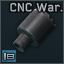AK 5.56x45 CNC Warrior muzzle device adapter: (0, 0, 64, 64)
